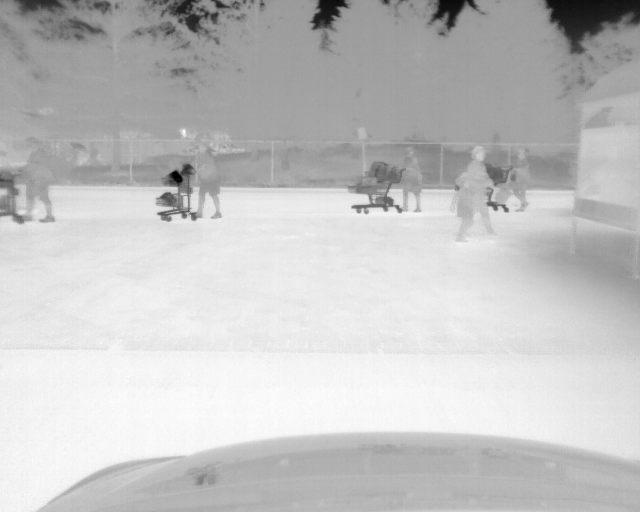people: (14, 134, 56, 225), (464, 144, 496, 236), (190, 135, 223, 220), (398, 145, 426, 213), (509, 145, 532, 213), (453, 174, 474, 241)
